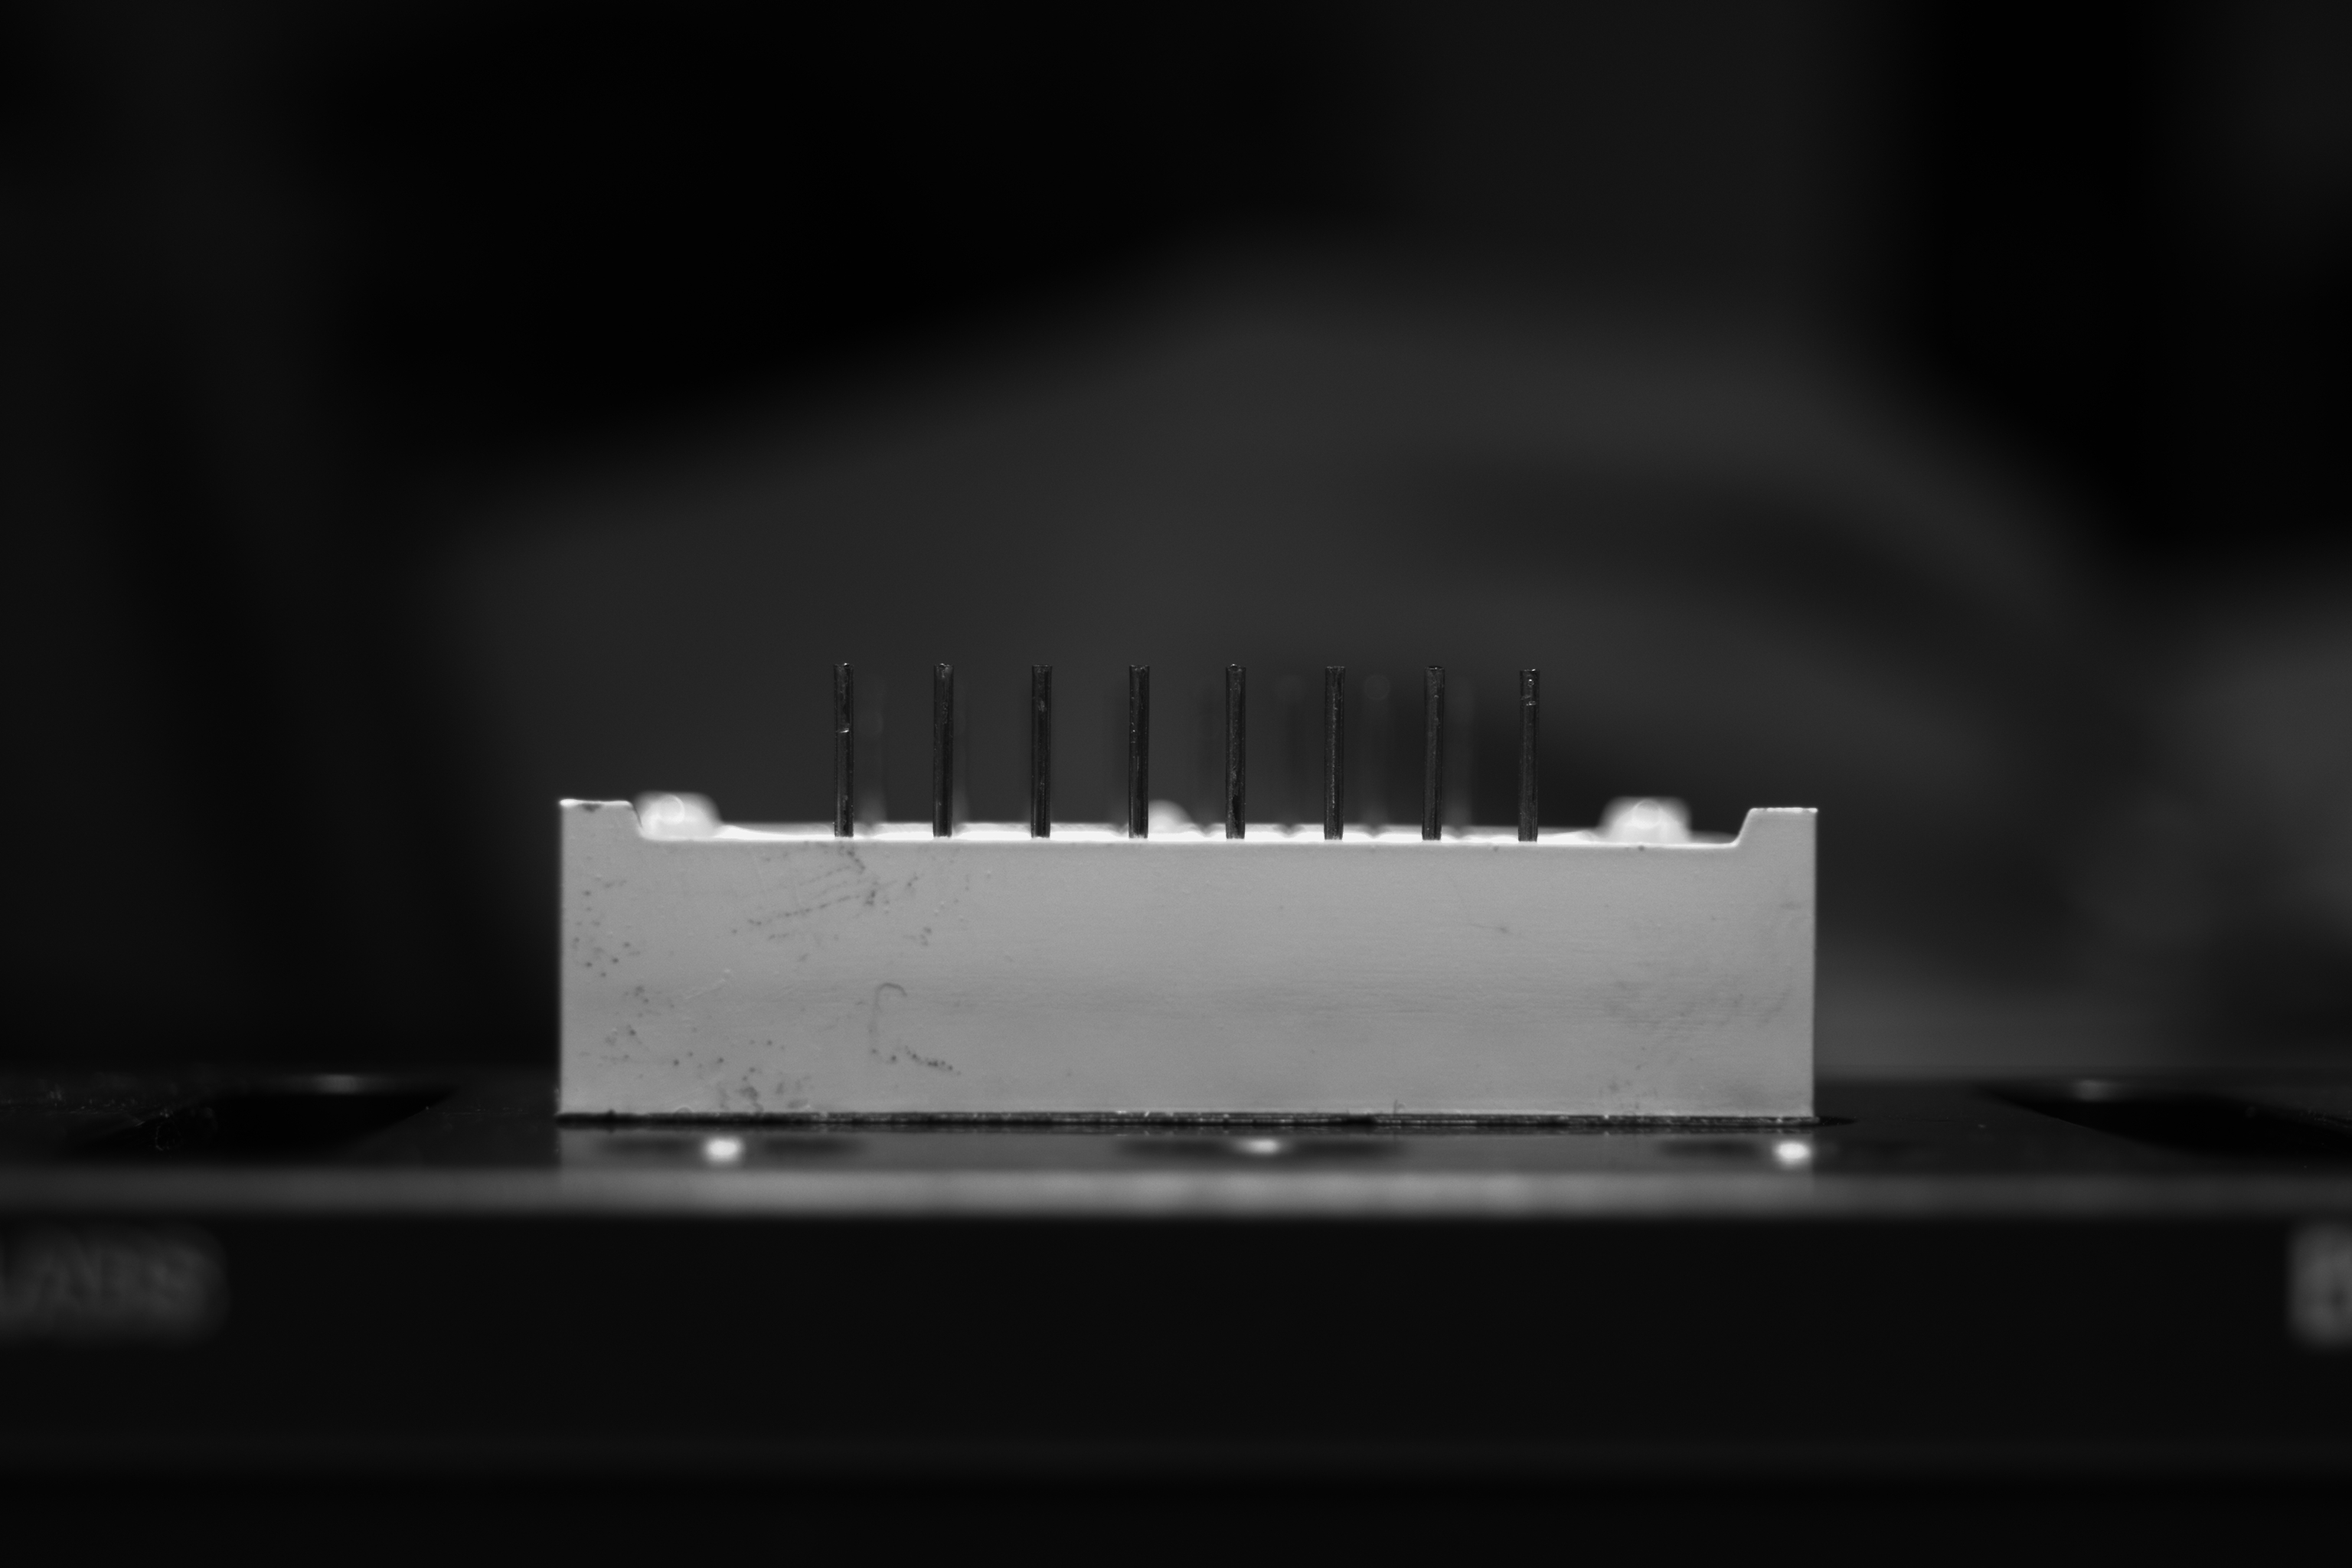Component: (551, 654, 1827, 1137)
